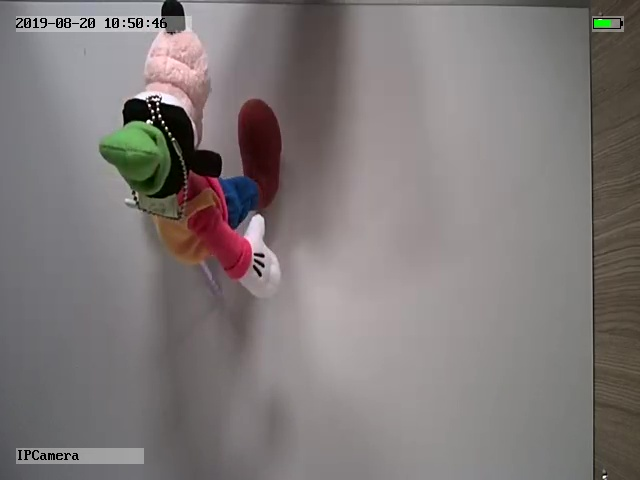goofy: (97, 3, 282, 299)
